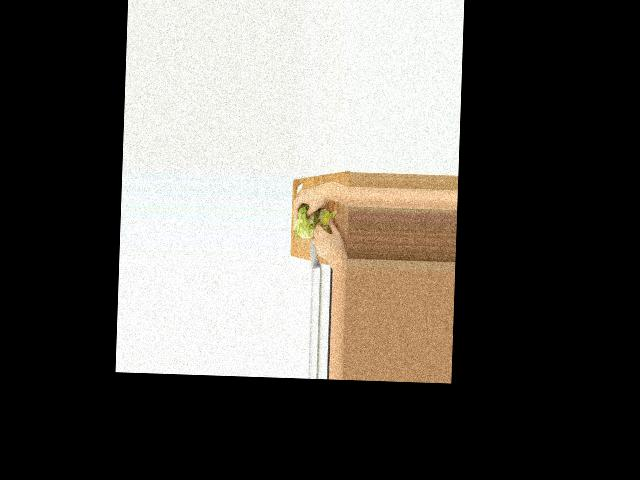lettuce: (293, 205, 317, 239)
